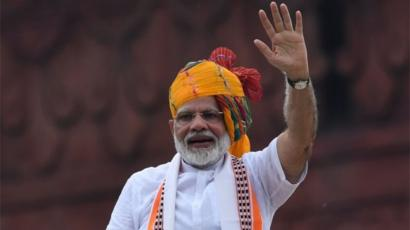modi: (158, 48, 278, 168)
